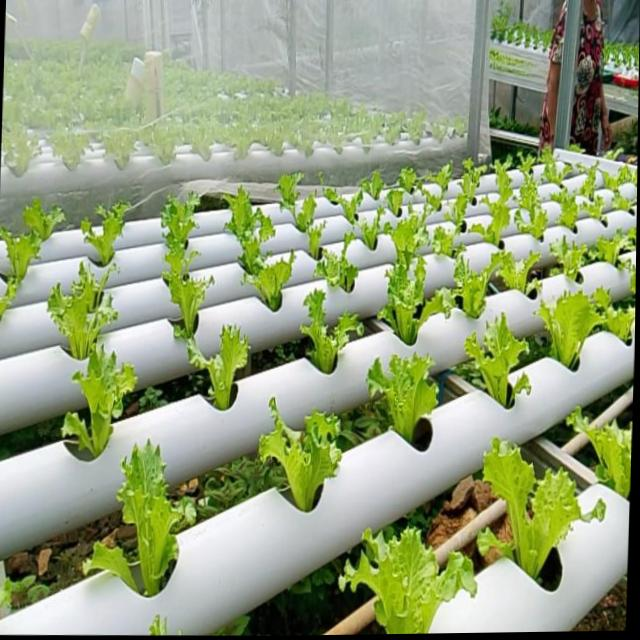Baby: (481, 435, 608, 575), (343, 525, 481, 634), (121, 438, 198, 595), (261, 396, 345, 511), (66, 343, 141, 456), (164, 192, 216, 345), (369, 353, 442, 451), (51, 261, 120, 359), (468, 313, 532, 408), (538, 286, 607, 368), (303, 289, 366, 374), (191, 325, 252, 409), (446, 249, 515, 319), (225, 187, 277, 274), (317, 233, 373, 293), (2, 226, 47, 299), (84, 201, 133, 266), (245, 252, 298, 311), (515, 157, 550, 241), (386, 207, 432, 270), (543, 147, 575, 184), (555, 187, 581, 230), (581, 163, 600, 201), (434, 226, 458, 256), (424, 184, 446, 215)
